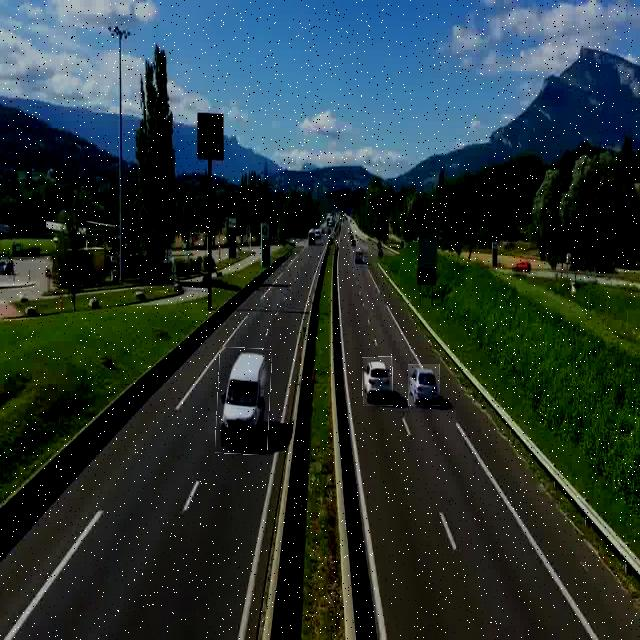Car: (217, 348, 271, 454), (363, 357, 393, 406), (408, 364, 440, 406)
